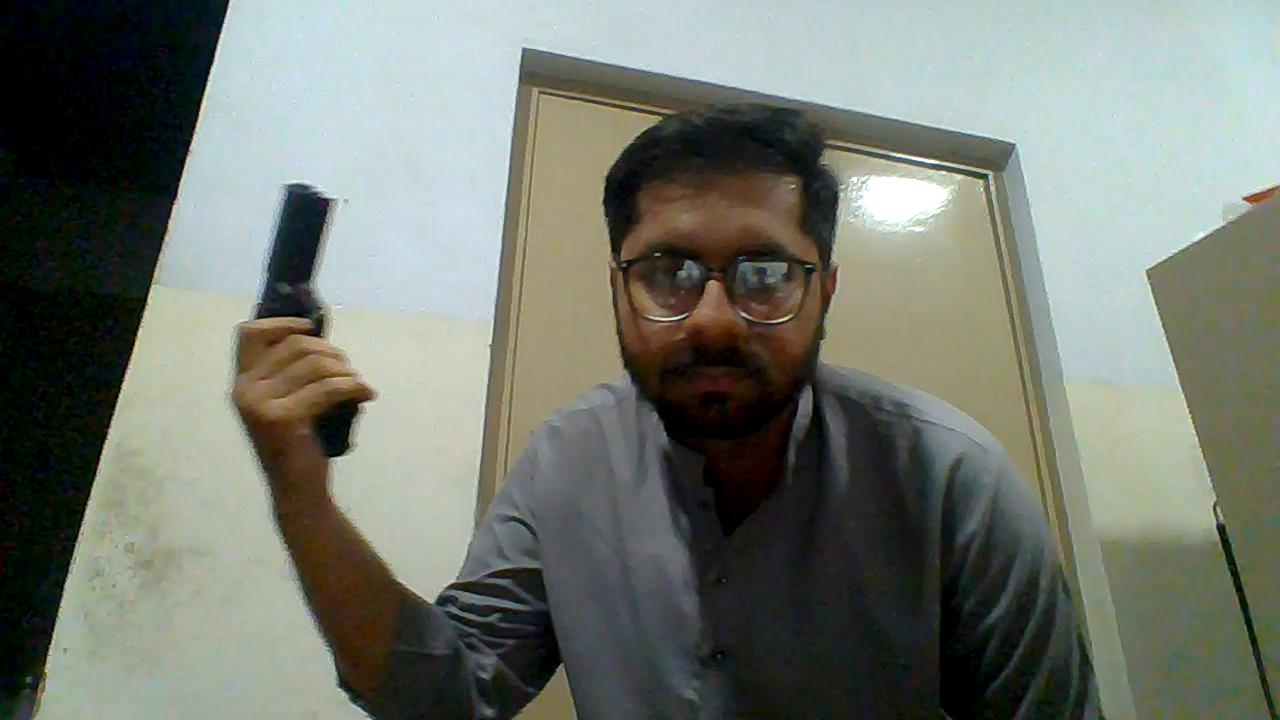criminal: (227, 96, 1097, 720)
weapon: (251, 180, 362, 461)
